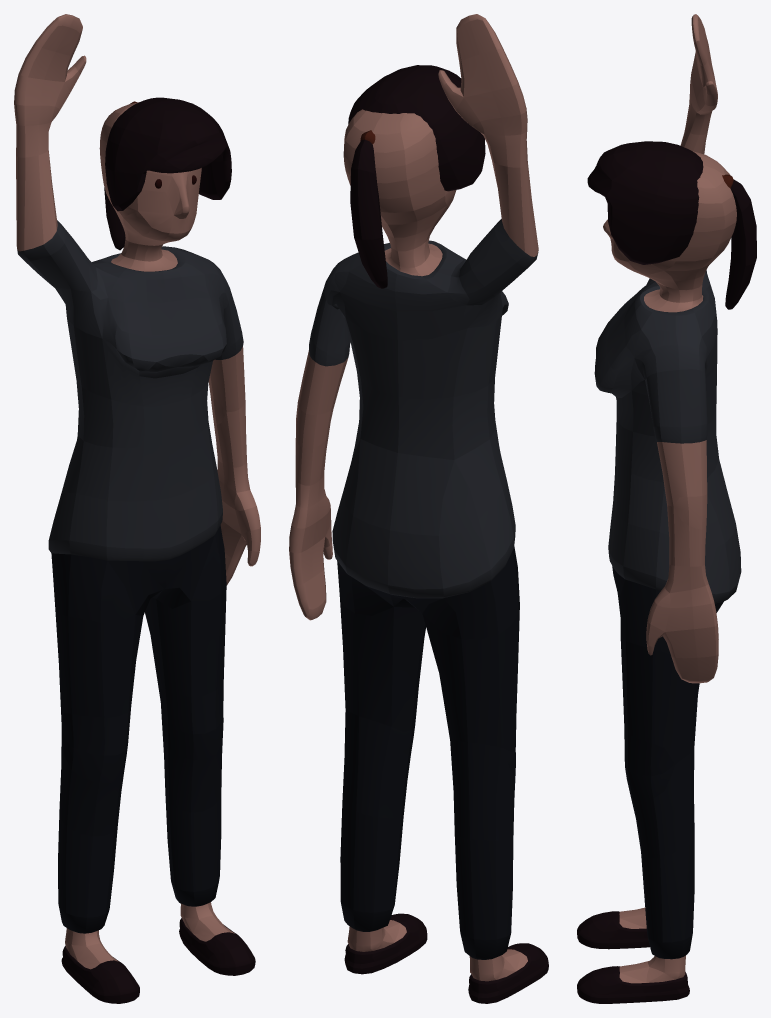
File: pessoa_m_acenando.glb
3 renders of one model, left to right at view 1: azimuth 30°, elevation 25°; view 2: azimuth 150°, elevation 25°; view 3: azimuth 270°, elevation 25°, orthographic. The views are drawn at different scales.
Visible parts, largest first — view 1: pessoa_m_acenando; view 2: pessoa_m_acenando; view 3: pessoa_m_acenando.
Boxes of the visible parts, left/top/right/bottom form: pessoa_m_acenando: left=14, top=14, right=260, bottom=1003; pessoa_m_acenando: left=289, top=14, right=548, bottom=1003; pessoa_m_acenando: left=577, top=14, right=756, bottom=1003.
Size of the model in its own units: 0.4651 by 1.86 by 0.3291.
Materials: 1 (1 with a texture image).
